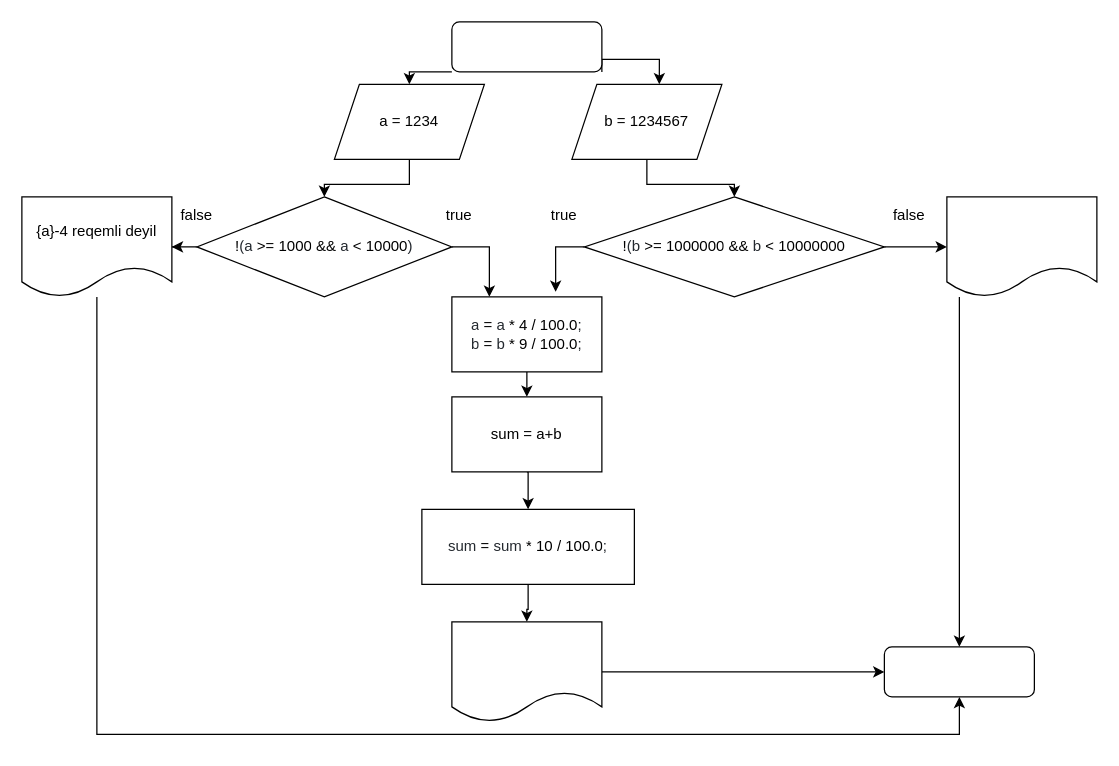
This 1119x766 diagram has some shape labels left out. The shapes that lost their labels are listed below. From the top down, each one's box as (x1, y1, x2, y2) in pixels, then its label:
(451, 21, 602, 72): start
(946, 196, 1097, 297): {b}-7 reqemli deyil
(451, 621, 602, 722): sum
(883, 646, 1034, 697): end
